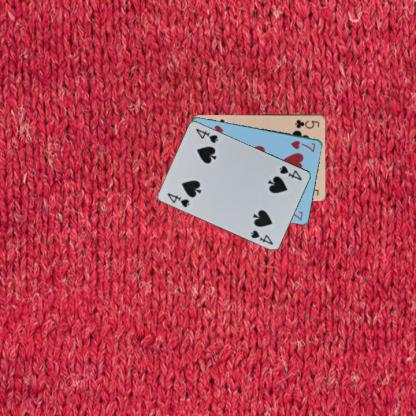4s: (278, 163, 304, 181), (165, 190, 191, 208)
5c: (293, 118, 320, 130)
7h: (288, 138, 317, 153)
